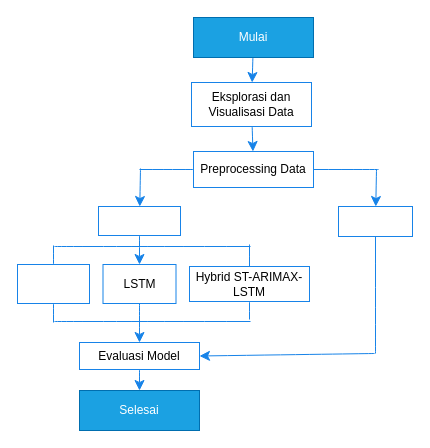
The diagram is 430 pixels wide and 448 high, and some of its shapes have lost their labels. The centre of each missing label's shape, as x and y in pixels:
"ARIMAX" goes at (53,284).
"Data Testing" goes at (375,221).
"Data Training" goes at (139,221).
